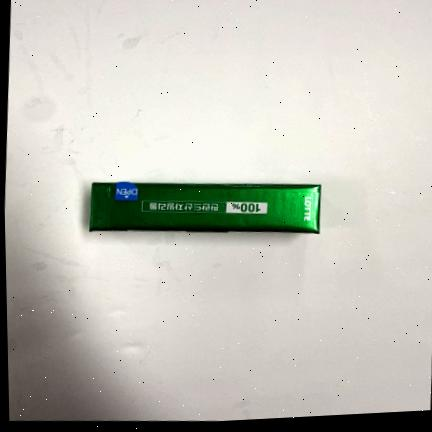gum_green: (89, 182, 321, 234)
